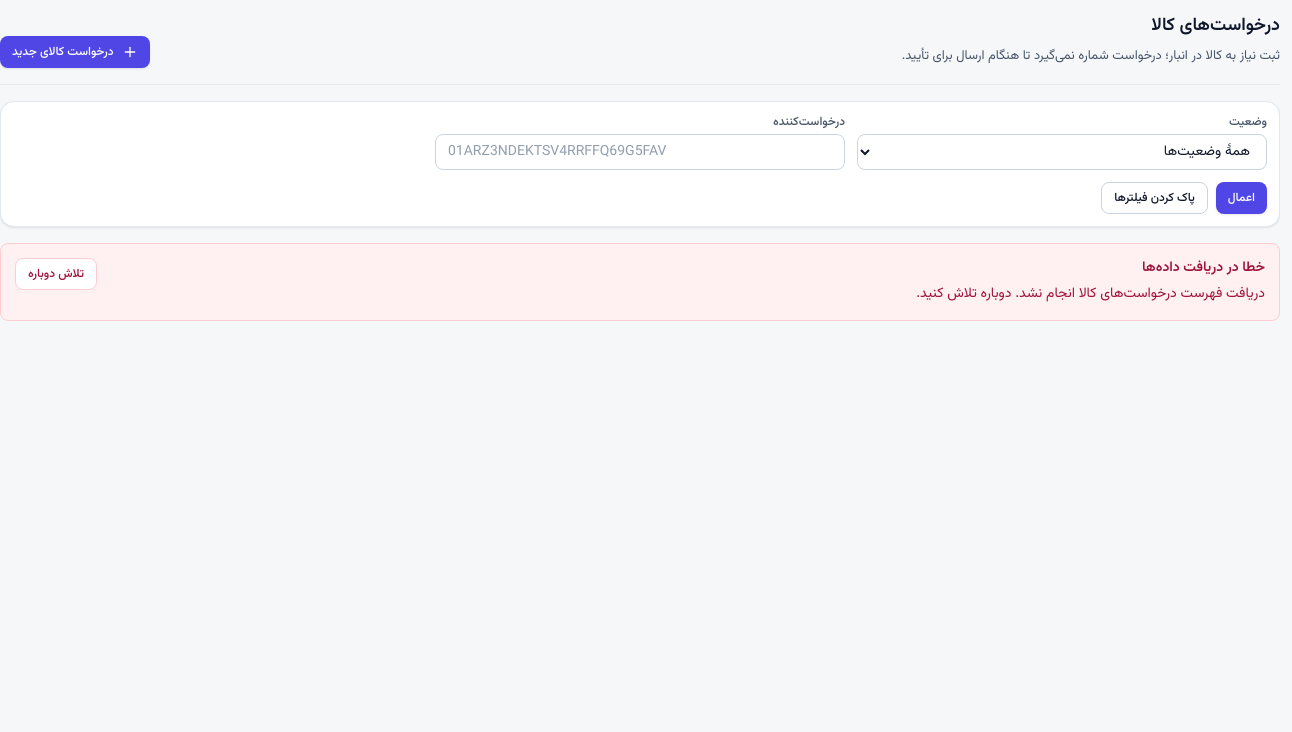
Test: material requests list › shows a localized query error and retries
Expected: the text "دریافت فهرست درخواست‌های کالا انجام نشد. دوباره تلاش کنید." is shown, [916,282,1265,306]
What coordinates should you click on to do the following:
click the button "تلاش دوباره"
I would click on:
 (56, 274)
Its box is [15,258,97,290].
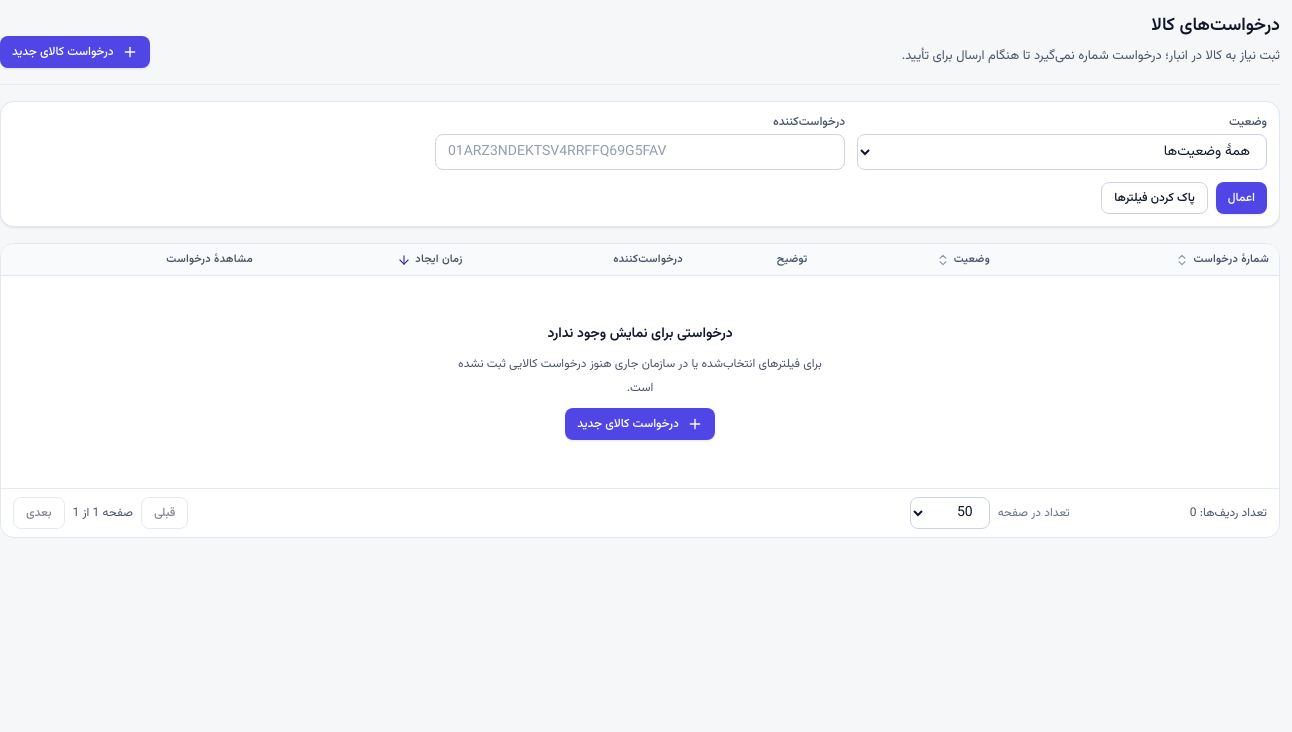
Result: the text "درخواستی برای نمایش وجود ندارد" is shown at [547,324,733,344]
